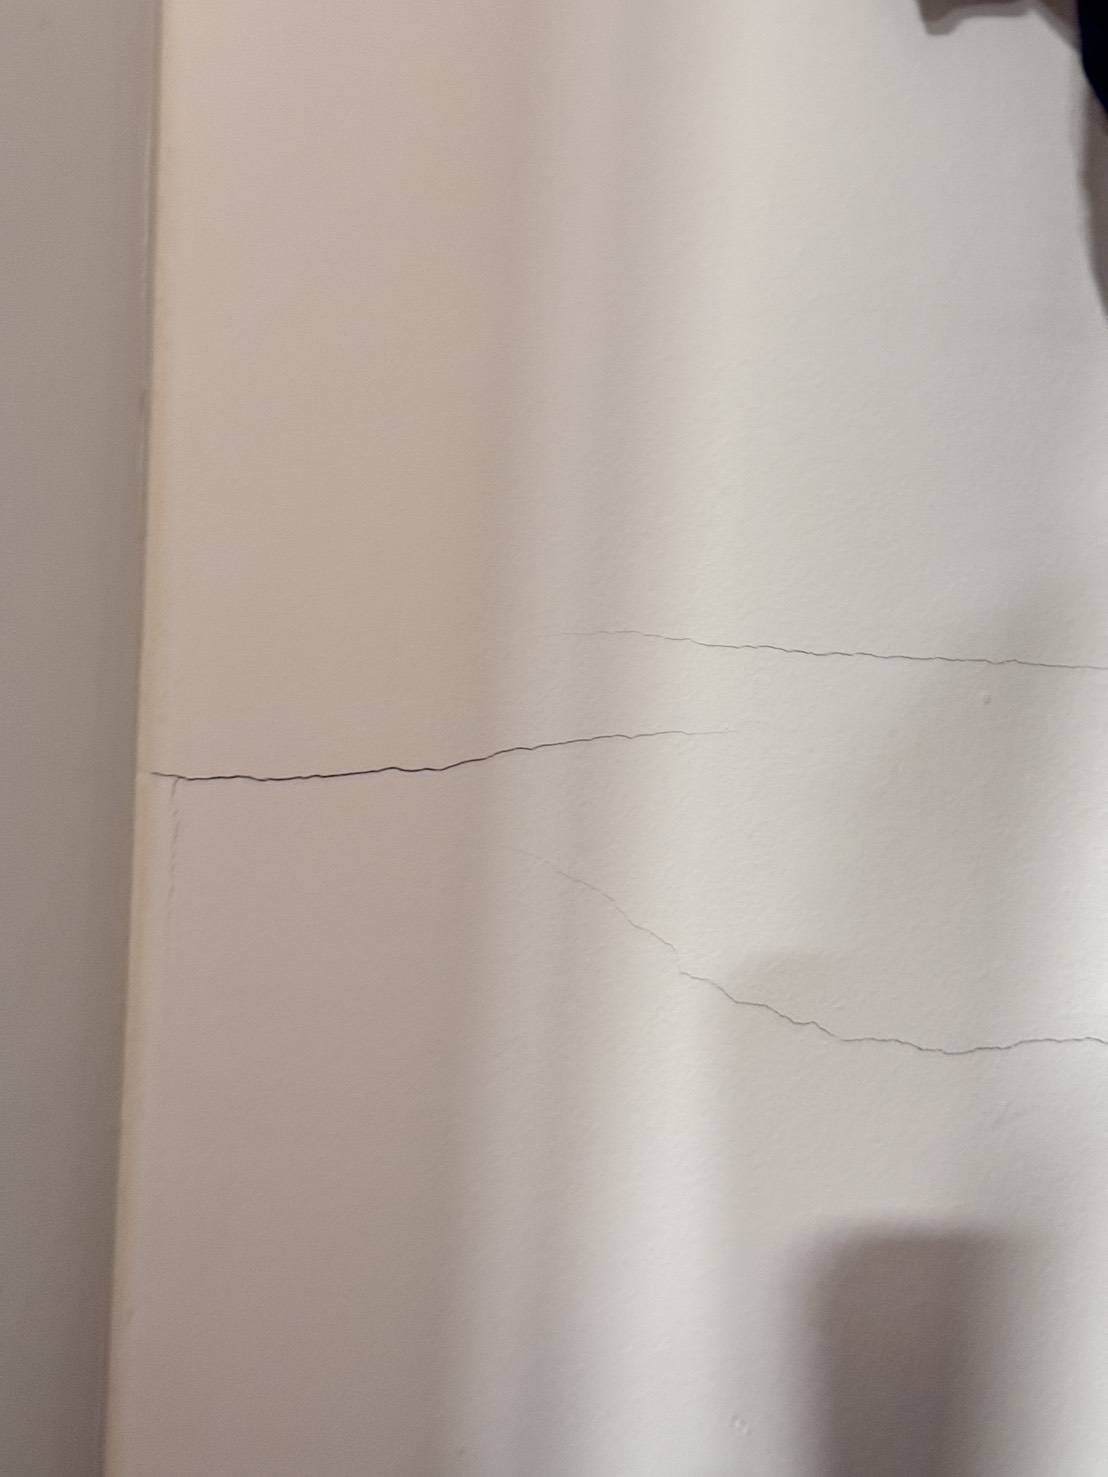Low: (114, 590, 1108, 1084)
